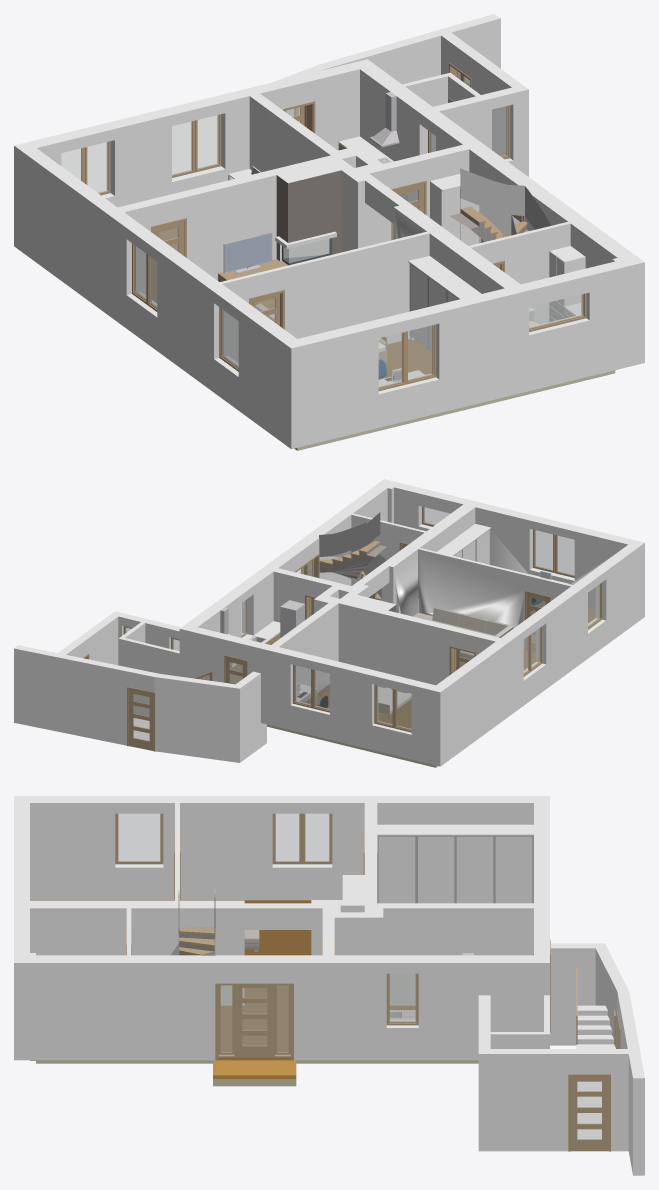
File: shlyakhtynci_planuvannya_v4.gltf
3 renders of one model, top to bottom at view 1: azimuth 30°, elevation 25°; view 2: azimuth 150°, elevation 25°; view 3: azimuth 270°, elevation 25°, orthographic. The views are drawn at different scales.
Parts seen in each view (by area): view 1: node-0; view 2: node-0; view 3: node-0.
Boxes of the visible parts, <box> form: node-0: <box>14,14,644,450</box>; node-0: <box>14,479,644,767</box>; node-0: <box>14,796,644,1175</box>.
Bounding box in the file's own units: 585 × 181 × 624.
